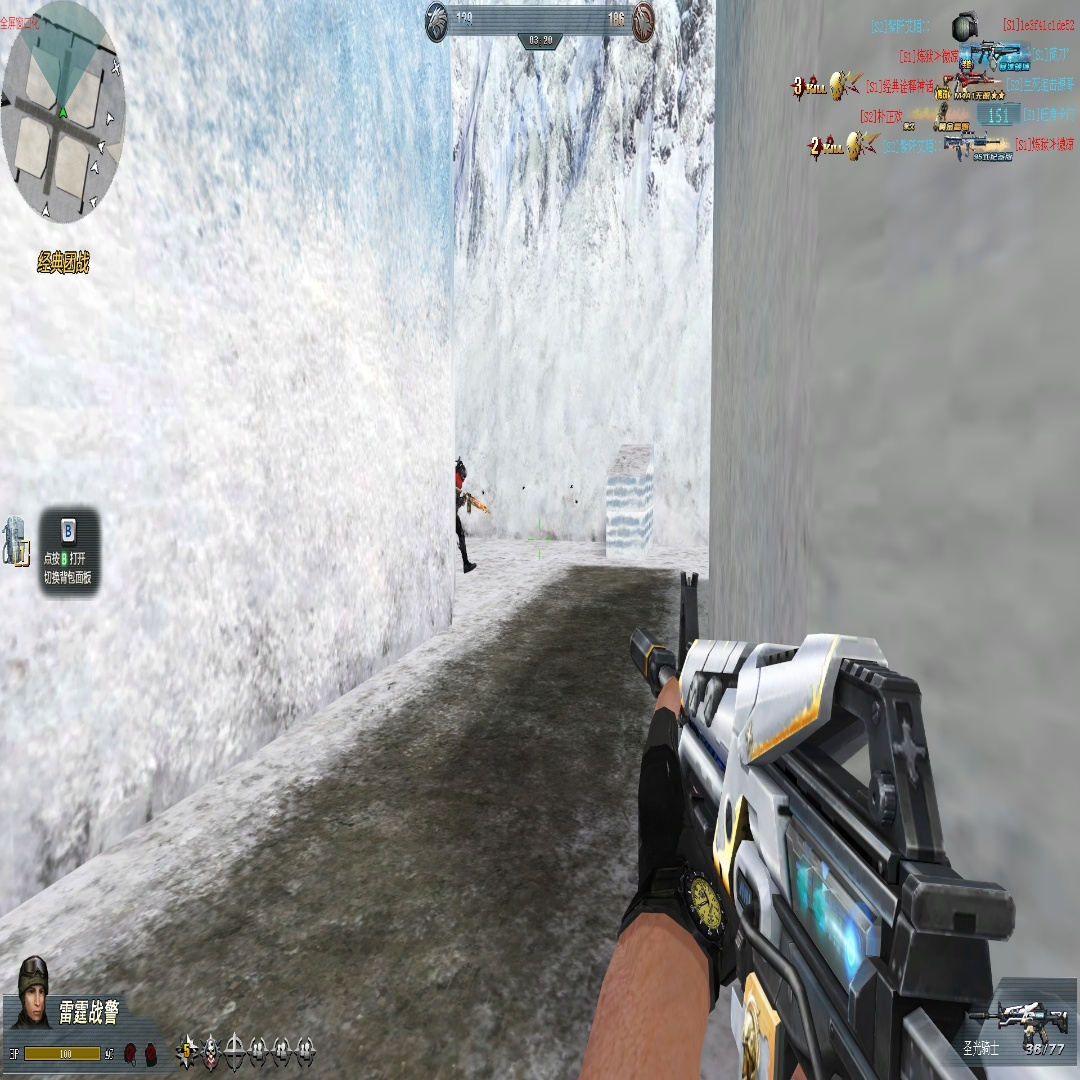head: (456, 459, 467, 484)
t: (454, 458, 470, 574)
